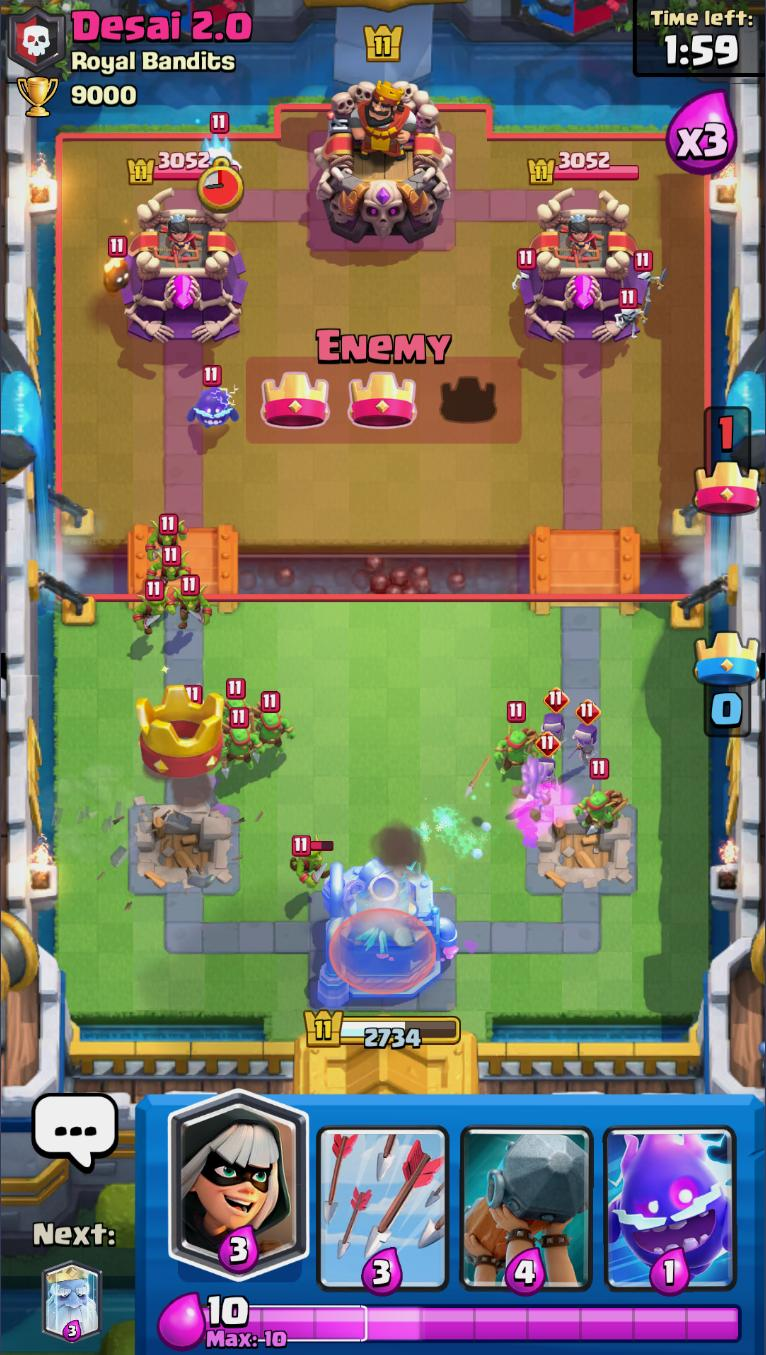ArrowDeck: (319, 1126, 449, 1296)
BanditDeck: (166, 1092, 313, 1295)
BattleRamDeck: (460, 1126, 596, 1294)
ElectroSpirit: (182, 365, 243, 432)
ElectroSpiritDeck: (603, 1126, 736, 1293)
Elixir: (202, 1296, 742, 1349)
EnemyTower: (122, 187, 250, 347), (520, 186, 648, 346)
EvoSkeleton: (571, 699, 605, 769), (541, 686, 571, 747), (537, 729, 561, 785)
FireSpirit: (101, 233, 134, 297)
Goblin: (169, 575, 213, 635), (288, 832, 332, 889), (131, 580, 174, 635), (146, 512, 191, 562), (148, 545, 191, 592)
IceSpirit: (198, 111, 244, 173)
KingTower: (315, 81, 455, 246)
MyKingHP: (301, 1007, 463, 1052)
MyKingTower: (302, 860, 461, 1009)
MyPrincessTowerBrocken: (121, 797, 246, 898), (522, 800, 643, 899)
PrincessTower: (148, 215, 205, 265), (557, 213, 605, 268)
RoyaleGhostNext: (41, 1260, 103, 1344)
Skeleton: (613, 287, 651, 342), (632, 250, 670, 303), (510, 248, 536, 294)
SpearGoblin: (577, 760, 630, 837), (496, 701, 540, 777), (252, 692, 298, 758), (221, 709, 264, 776), (220, 677, 254, 717)
TowerPrincessHP: (524, 151, 641, 187), (128, 153, 242, 187)
